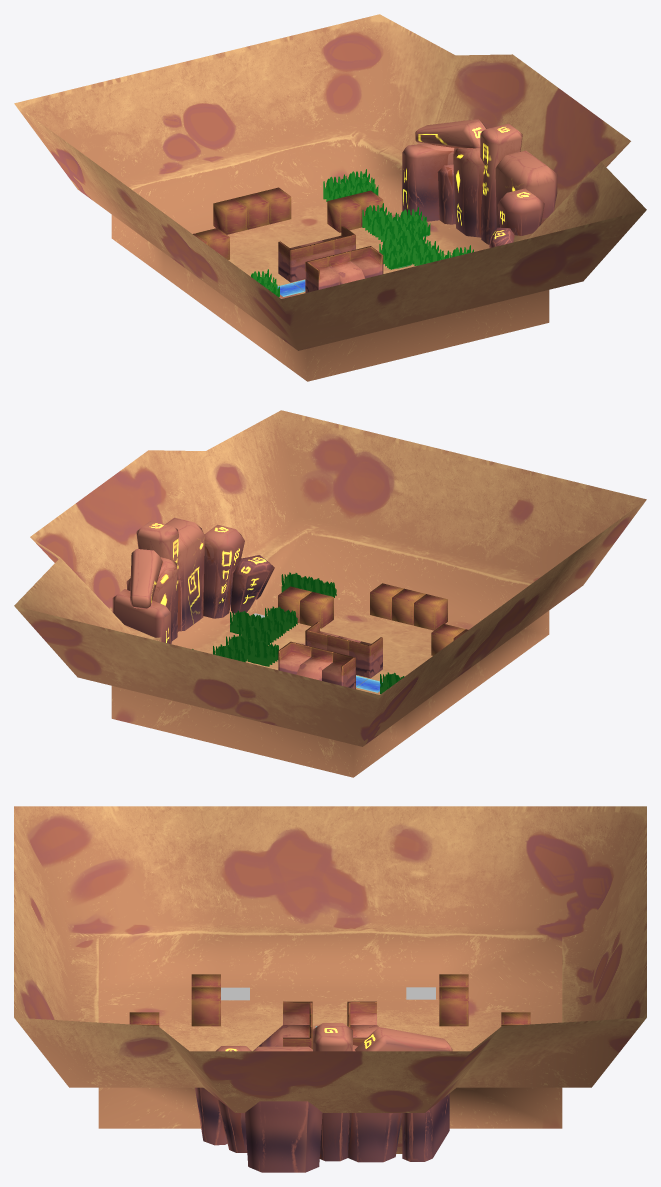
The model's file is TerrainWObjectPat2.fbx.
The picture shows the model from 3 angles, top to bottom: view 1: azimuth 30°, elevation 25°; view 2: azimuth 150°, elevation 25°; view 3: azimuth 270°, elevation 25°; orthographic projection. The views are drawn at different scales.
Visible parts, largest first — view 1: terrain1, pCube21, pCube17, pCube19, pCube18, pCube16, pCube22, polySurface3155, polySurface116, polySurface257, pCube20, polySurface3152 (+9 smaller); view 2: terrain1, pCube16, pCube17, pCube21, pCube15, pCube18, pCube22, pCube19, polySurface3152, polySurface176, polySurface258, polySurface3155 (+7 smaller); view 3: terrain1, pCube17, pCube19, pCube18, pCube21, pCube22, pCube15, polySurface259, polySurface260, pCube16, polySurface3152, polySurface3155 (+1 smaller).
Part boxes in pixels (x1,y1,x2,y2): terrain1: (14, 14, 646, 381); pCube21: (402, 144, 454, 221); pCube17: (495, 150, 557, 228); pCube19: (453, 147, 484, 237); pCube18: (480, 123, 522, 244); pCube16: (497, 188, 544, 235); pCube22: (415, 119, 486, 148); polySurface3155: (278, 241, 312, 282); polySurface116: (213, 198, 247, 234); polySurface257: (327, 196, 361, 232); pCube20: (437, 164, 455, 224); polySurface3152: (305, 256, 339, 292); terrain1: (14, 410, 646, 777); pCube16: (203, 524, 244, 618); pCube17: (165, 517, 204, 631); pCube21: (112, 589, 170, 643); pCube15: (231, 555, 274, 613); pCube18: (136, 521, 178, 641); pCube22: (130, 549, 162, 609); pCube19: (126, 557, 177, 643); polySurface3152: (349, 637, 382, 678); polySurface176: (414, 594, 447, 630); polySurface258: (300, 592, 333, 628); polySurface3155: (322, 652, 355, 689); terrain1: (14, 806, 646, 1153); pCube17: (245, 1046, 322, 1172); pCube19: (347, 1045, 402, 1162); pCube18: (312, 1023, 352, 1161); pCube21: (402, 1093, 449, 1161); pCube22: (355, 1027, 452, 1051); pCube15: (195, 1087, 227, 1145); polySurface259: (439, 987, 468, 1026); polySurface260: (191, 987, 220, 1026); pCube16: (216, 1046, 251, 1152); polySurface3152: (283, 1001, 312, 1024); polySurface3155: (347, 1001, 376, 1024).
Bounding box in the file's own units: 98.27 × 27.51 × 107.
